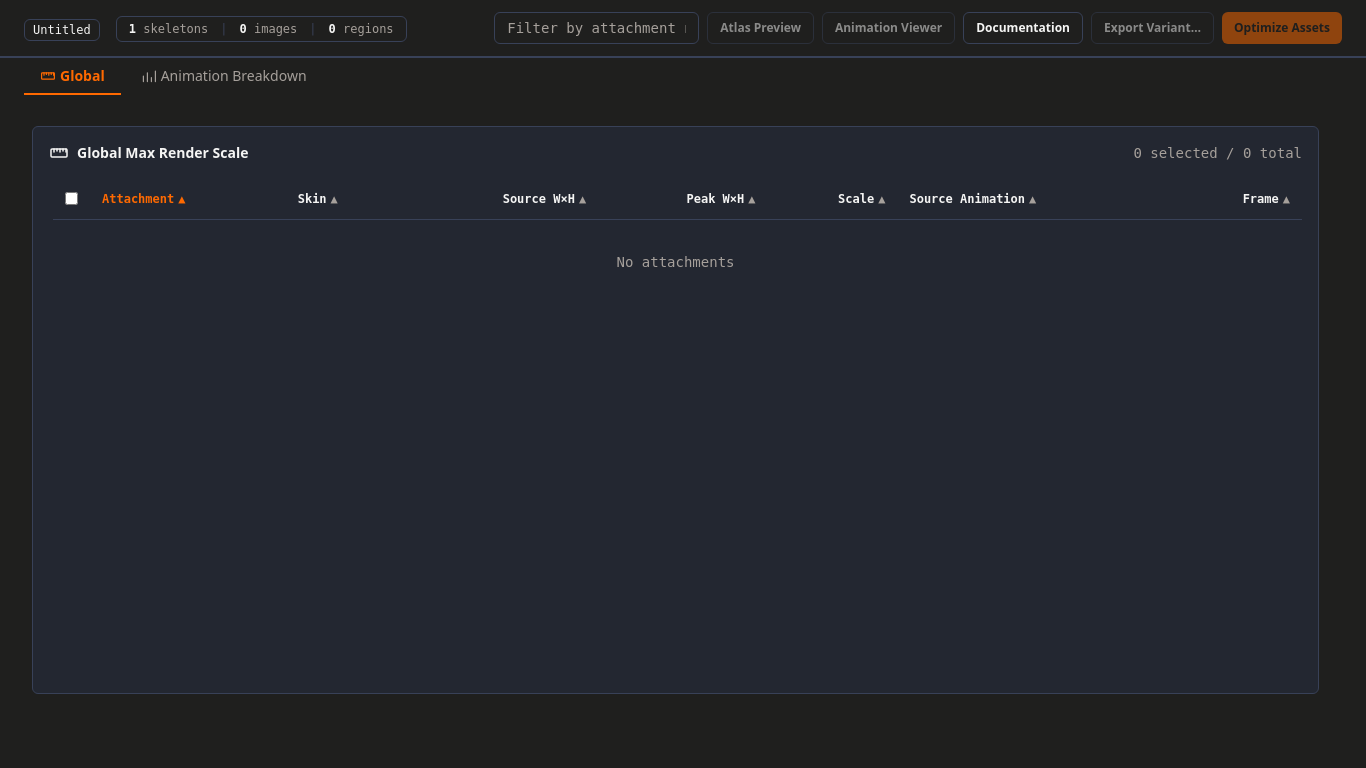
it: Phase 31 LOAD-05/06/07 — source-toggle disabled state › A2: atlas-less mode + hasAtlasFile=false → menu item disabled with verbatim title
The width and height of the screenshot is (1366, 768).
Click the element named "Load summary" at (261, 28), box [116, 16, 407, 42]
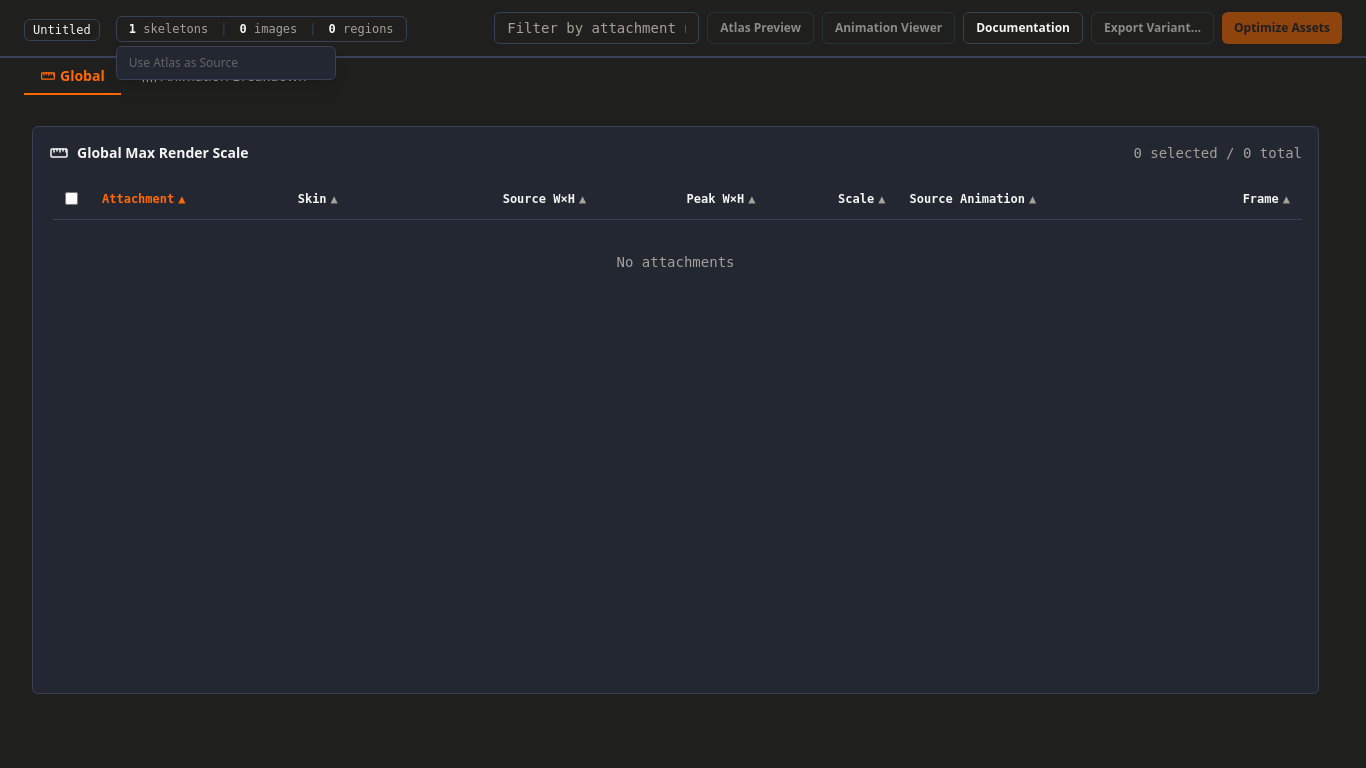
Result: the button "Use Atlas as Source" is disabled at [117, 46, 335, 78]
